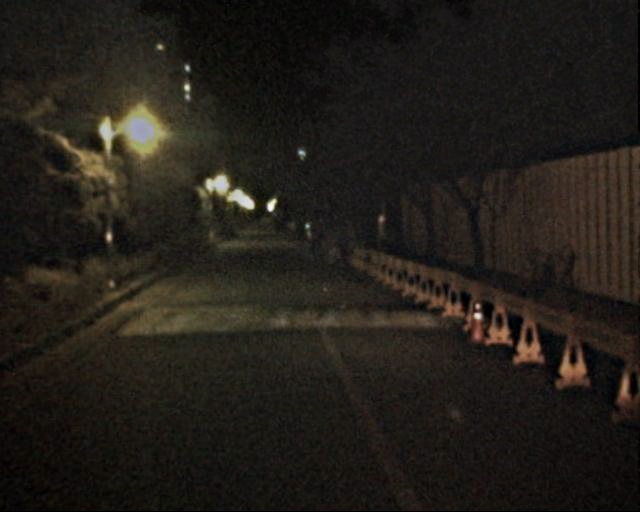person: (306, 228, 324, 271), (320, 227, 338, 270), (333, 228, 349, 268), (292, 228, 305, 259)
